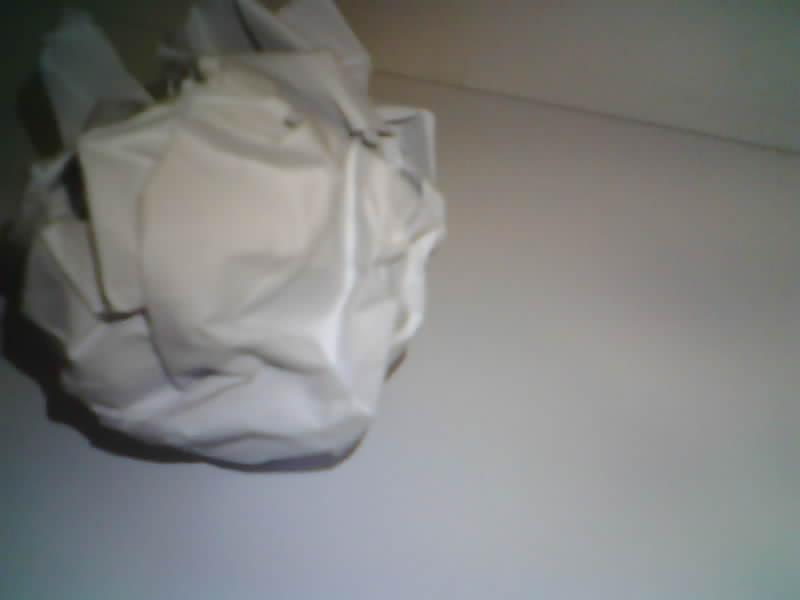biodegradable: (0, 0, 445, 471)
